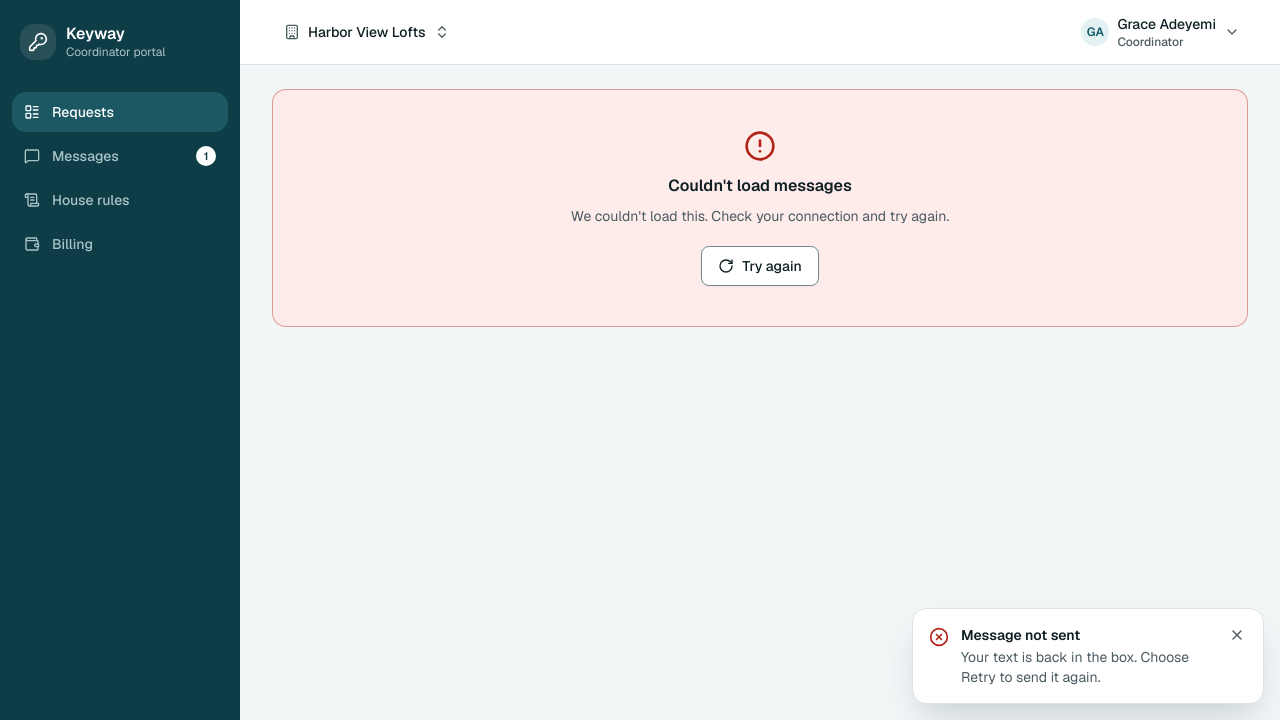
Test case: MessageThread › shows an error with a working retry
The image size is (1280, 720).
expect the message shows "Couldn't load messages": met, box left=668, top=175, right=852, bottom=196
Click the button "Try again".
click(760, 266)  # box left=701, top=246, right=819, bottom=286
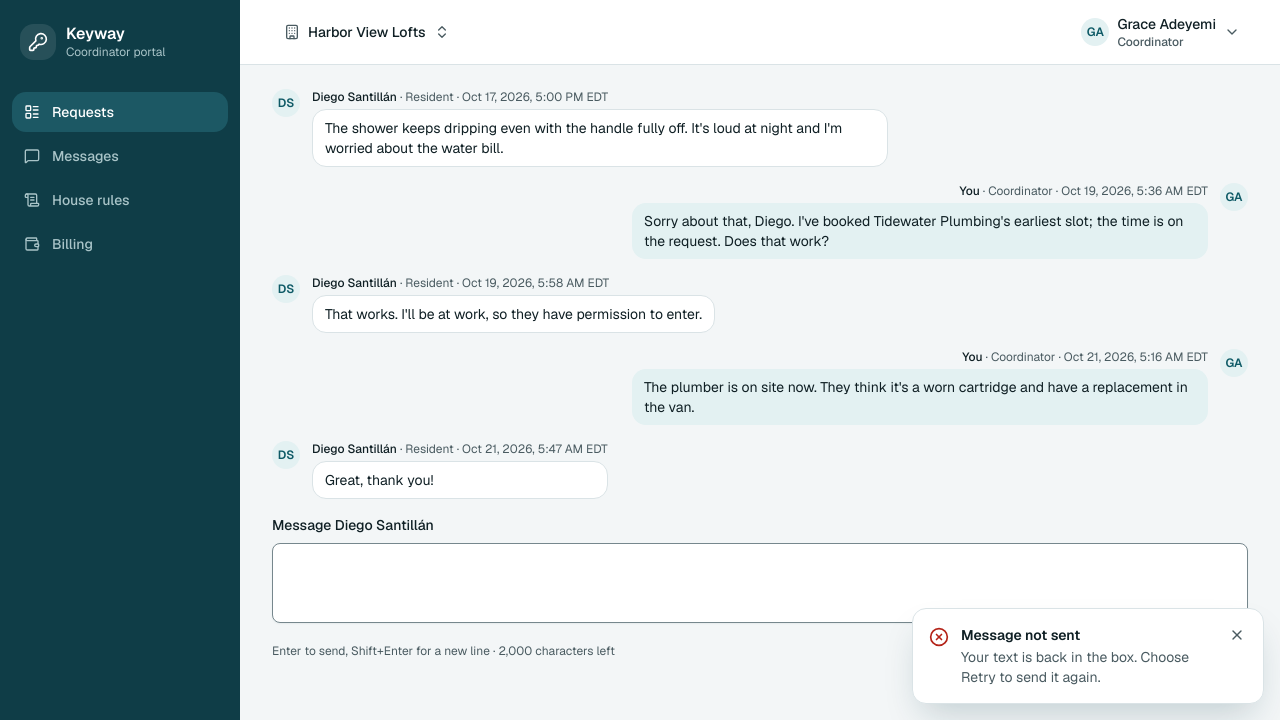
expect the list named "Conversation" is shown: met, box left=272, top=89, right=1248, bottom=499
